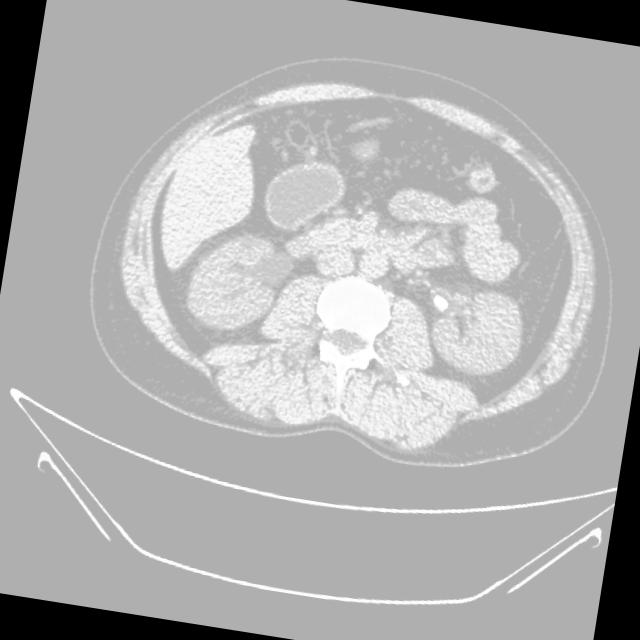STONE: (236, 54, 552, 289)
